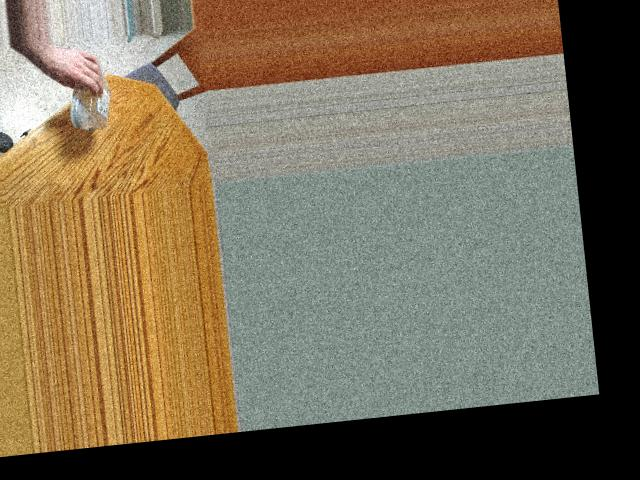cheese: (60, 62, 113, 120)
